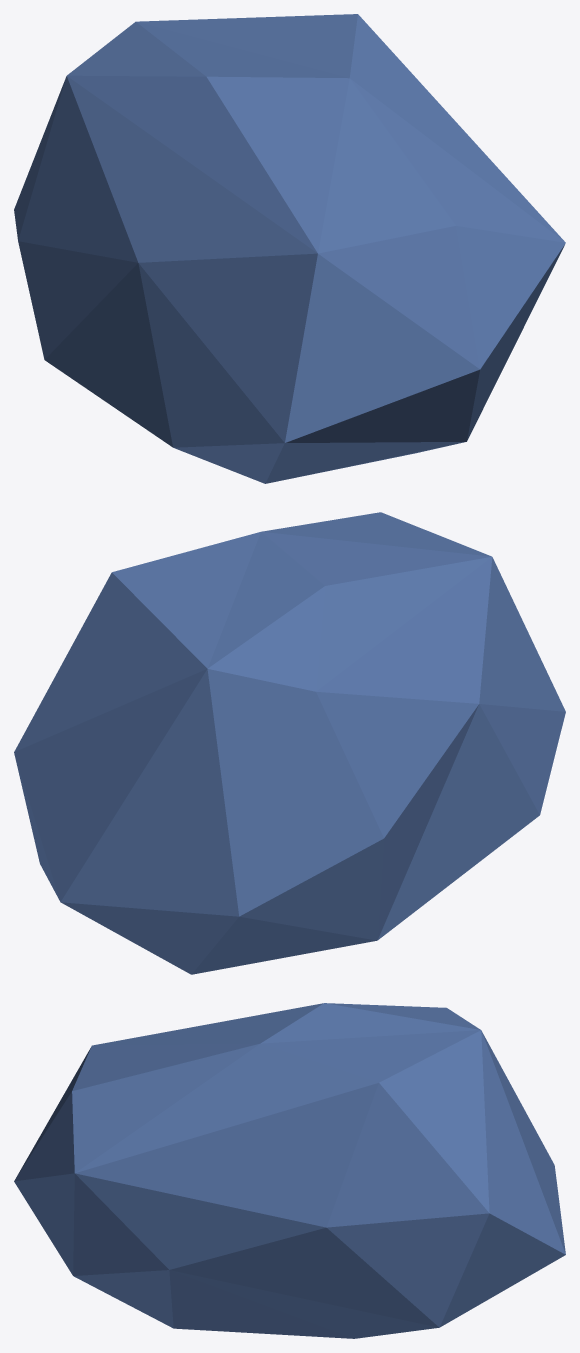
Rendered from Rock_A_005.fbx.
The picture shows the model from 3 angles, top to bottom: view 1: azimuth 30°, elevation 25°; view 2: azimuth 150°, elevation 25°; view 3: azimuth 270°, elevation 25°; orthographic projection. The views are drawn at different scales.
Parts seen in each view (by area): view 1: Rock A.005; view 2: Rock A.005; view 3: Rock A.005.
Part boxes in pixels (left/top/right/bottom): Rock A.005: left=14, top=14, right=565, bottom=483; Rock A.005: left=14, top=512, right=565, bottom=974; Rock A.005: left=14, top=1003, right=565, bottom=1338.
Bounding box in the file's own units: 25.46 × 23.13 × 39.84.
